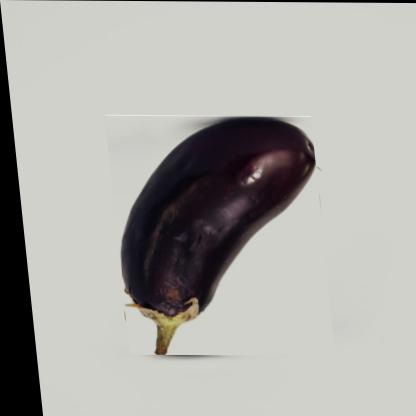eggplant: (102, 115, 329, 357)
